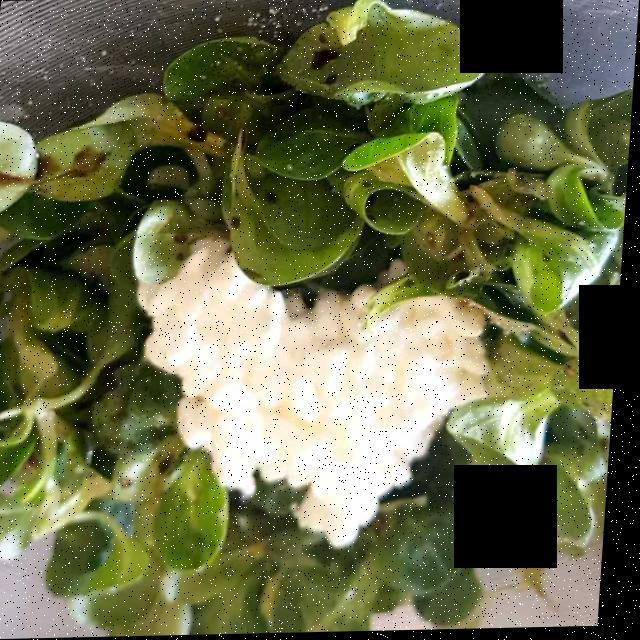cheese: (101, 194, 514, 534)
salad: (0, 12, 597, 622), (55, 26, 558, 421)
